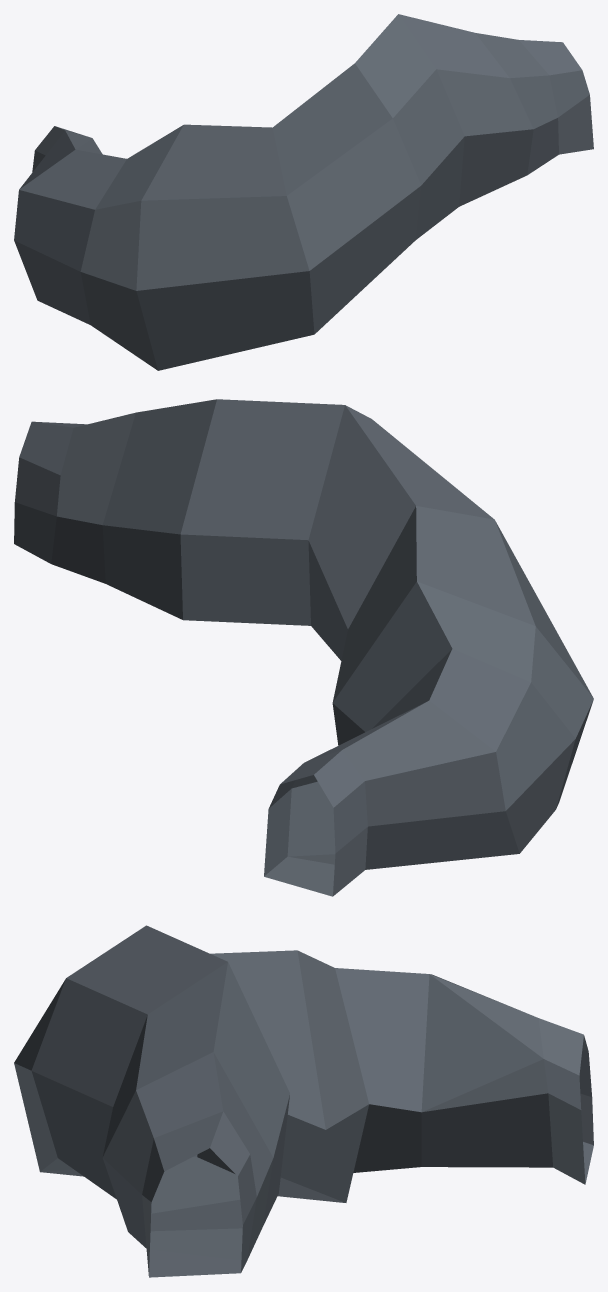
Rendered from Tunnel-B07.fbx.
The picture shows the model from 3 angles, top to bottom: view 1: azimuth 30°, elevation 25°; view 2: azimuth 150°, elevation 25°; view 3: azimuth 270°, elevation 25°; orthographic projection. The views are drawn at different scales.
Visible parts, largest first — view 1: Tunnel-B07; view 2: Tunnel-B07; view 3: Tunnel-B07.
Boxes of the visible parts, left/top/right/bottom form: Tunnel-B07: left=14, top=14, right=593, bottom=370; Tunnel-B07: left=14, top=399, right=593, bottom=896; Tunnel-B07: left=14, top=925, right=593, bottom=1277.
Size of the model in its own units: 1061 by 1350 by 758.
